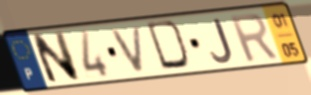4: (79, 29, 111, 79)
D: (144, 18, 194, 72)
J: (209, 17, 235, 64)
N: (28, 29, 83, 87)
R: (226, 11, 281, 65)
V: (109, 25, 148, 75)
